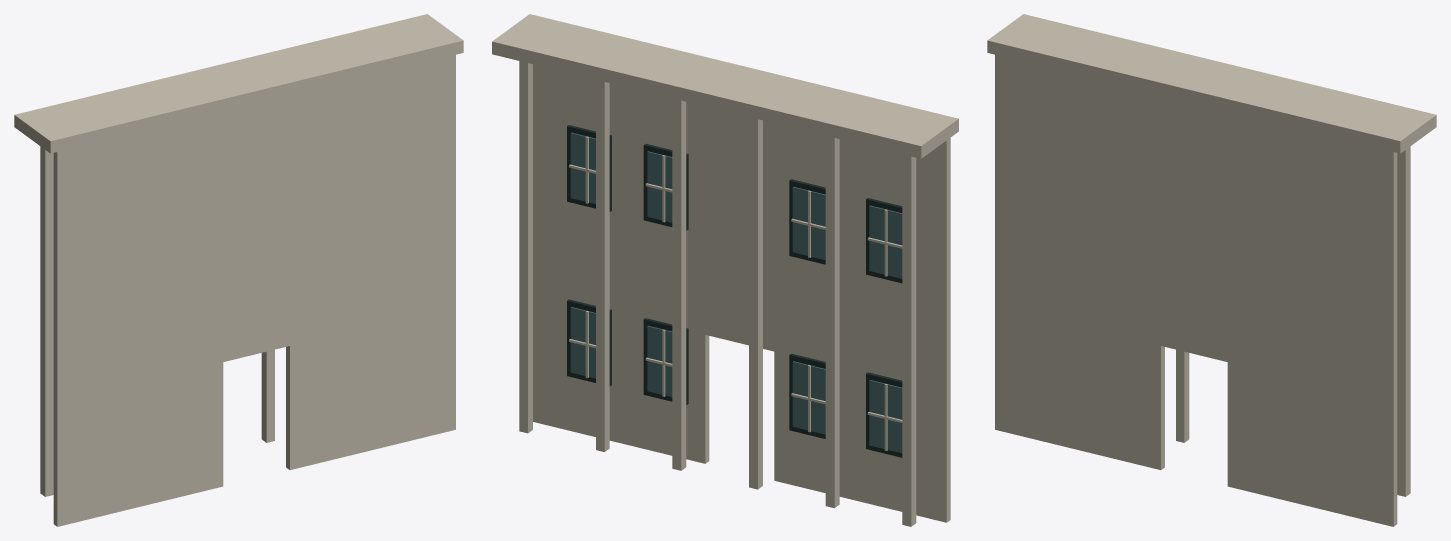
File: alder-north-provisional-2026-11-04.glb
The picture shows the model from 3 angles, left to right: view 1: azimuth 30°, elevation 25°; view 2: azimuth 150°, elevation 25°; view 3: azimuth 330°, elevation 25°; orthographic projection. The views are drawn at different scales.
Parts seen in each view (by area): view 1: exterior-detail-building; view 2: exterior-detail-building; view 3: exterior-detail-building.
Part boxes in pixels (x1,y1,x2,y2): exterior-detail-building: (14, 14, 463, 526); exterior-detail-building: (492, 14, 958, 526); exterior-detail-building: (987, 14, 1436, 526).
Bounding box in the file's own units: 11.2 × 10.05 × 1.7.
